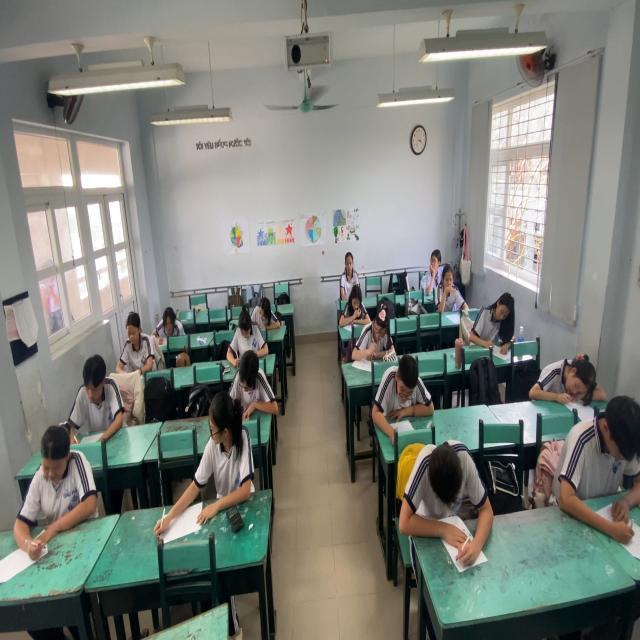cheating: (190, 395, 253, 499)
not_cheating: (564, 399, 640, 513), (404, 429, 488, 526), (24, 423, 92, 533), (370, 344, 438, 419), (63, 361, 123, 436), (228, 340, 274, 419), (531, 347, 597, 395), (113, 305, 156, 377), (356, 301, 396, 361), (473, 295, 522, 343), (432, 264, 469, 315), (224, 309, 263, 357), (144, 302, 189, 340), (337, 280, 374, 326), (248, 294, 284, 333), (337, 247, 362, 291), (419, 247, 442, 284)
